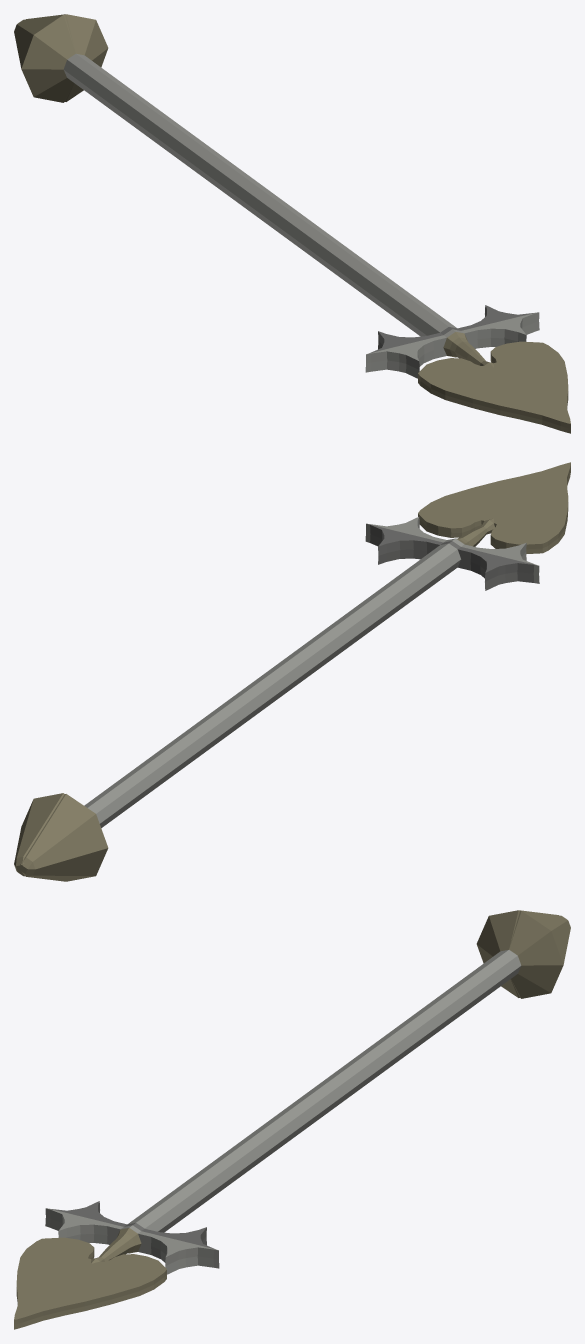
Rendered from EnemyGroundWeapon.fbx.
The picture shows the model from 3 angles, top to bottom: view 1: azimuth 30°, elevation 25°; view 2: azimuth 150°, elevation 25°; view 3: azimuth 330°, elevation 25°; orthographic projection.
Parts seen in each view (by area): view 1: polySurface161, polySurface157, polySurface159, polySurface160; view 2: polySurface161, polySurface157, polySurface159, polySurface160; view 3: polySurface161, polySurface157, polySurface159, polySurface160.
Part boxes in pixels (box(x1,y1,x2,y2)): polySurface161: box(63, 54, 539, 378); polySurface157: box(418, 332, 570, 433); polySurface159: box(14, 14, 108, 102); polySurface160: box(370, 305, 534, 352); polySurface161: box(84, 517, 539, 827); polySurface157: box(418, 462, 570, 553); polySurface159: box(14, 793, 108, 881); polySurface160: box(370, 524, 534, 590); polySurface161: box(45, 950, 521, 1274); polySurface157: box(14, 1228, 166, 1329); polySurface159: box(476, 910, 570, 998); polySurface160: box(50, 1201, 214, 1248).
Bounding box in the file's own units: 0.00435 × 0.0021 × 0.0238.
3 materials, 3 textured.
